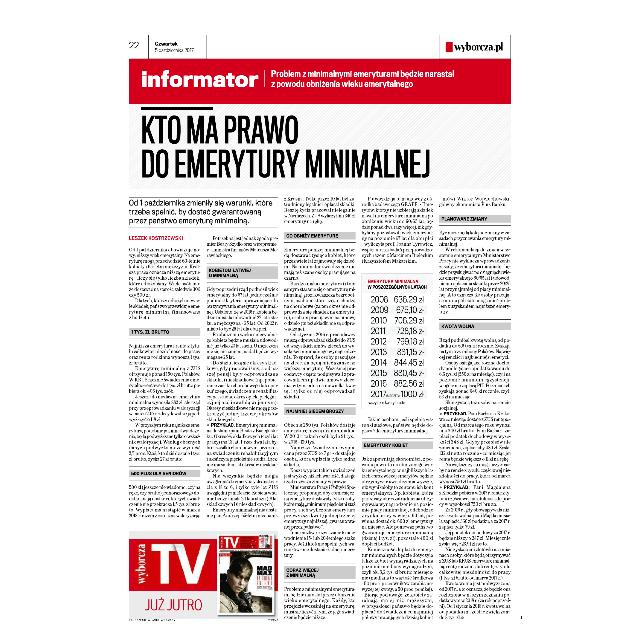article: (128, 108, 514, 622)
